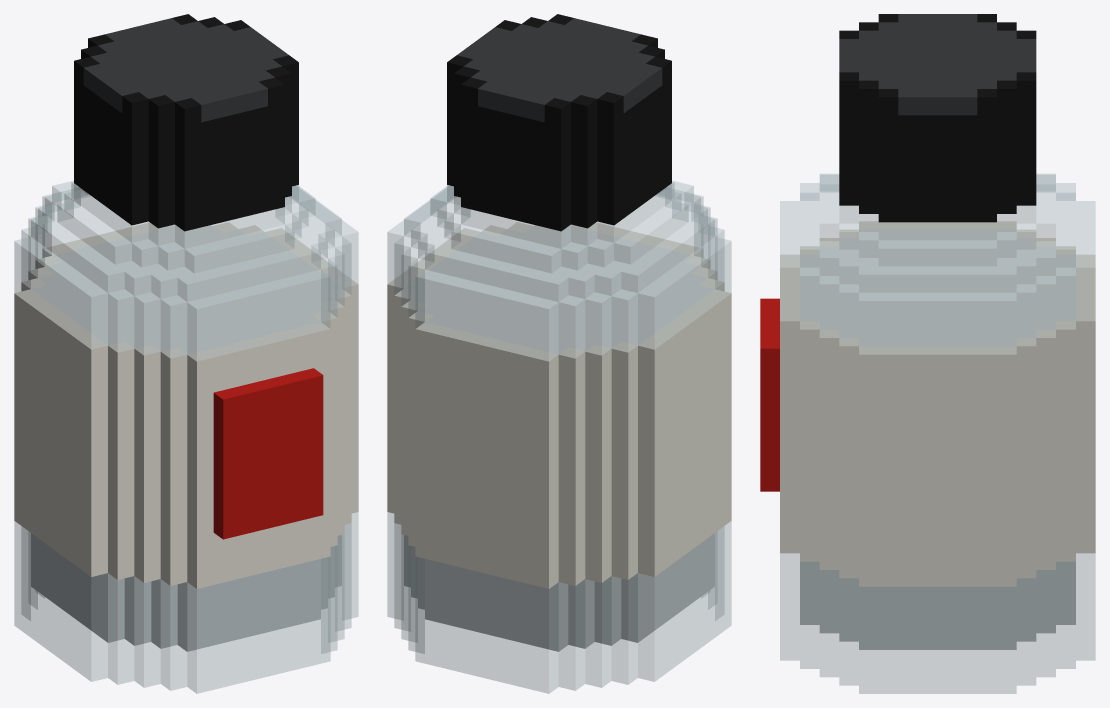
Rendered from mercury.glb.
3 views of the same model, side by side, from view 1: azimuth 30°, elevation 25°; view 2: azimuth 150°, elevation 25°; view 3: azimuth 270°, elevation 25° (orthographic). The views are drawn at different scales.
Parts seen in each view (by area): view 1: mercury:compound; view 2: mercury:compound; view 3: mercury:compound.
Part boxes in pixels (x1,y1,x2,y2): mercury:compound: [14, 14, 358, 693]; mercury:compound: [387, 14, 731, 693]; mercury:compound: [760, 14, 1095, 693].
Size of the model in its own units: 0.032 by 0.064 by 0.034.
